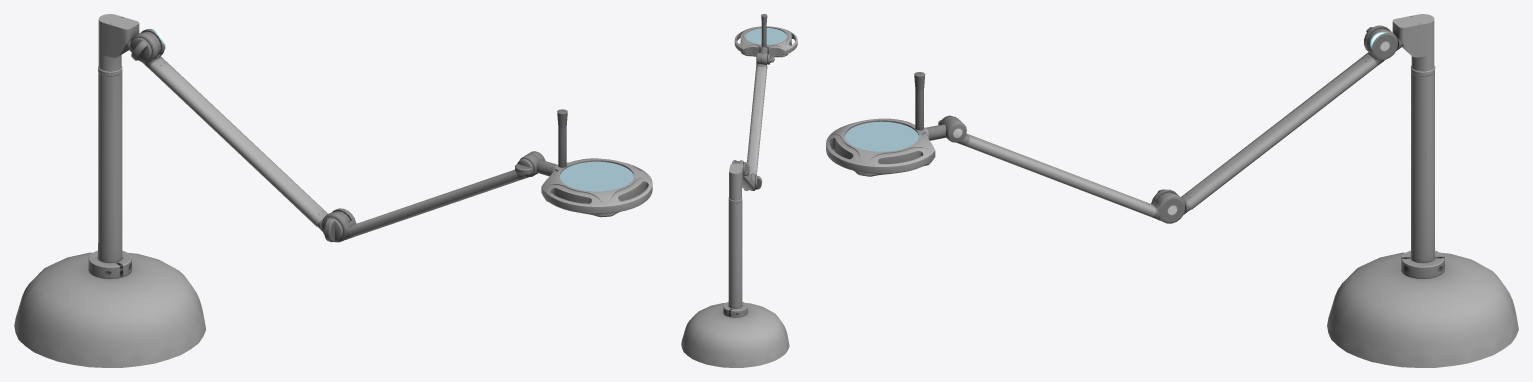
Rendered from lamp1.glb.
3 views of the same model, side by side, from view 1: azimuth 30°, elevation 25°; view 2: azimuth 150°, elevation 25°; view 3: azimuth 270°, elevation 25° (orthographic). The views are drawn at different scales.
Visible parts, largest first — view 1: lamp_LP; view 2: lamp_LP; view 3: lamp_LP.
Part boxes in pixels (x1,y1,x2,y2): lamp_LP: (14,14,652,367); lamp_LP: (681,14,797,367); lamp_LP: (826,14,1518,367).
Size of the model in its own units: 0.7287 by 0.7061 by 1.26.
1 material, 1 textured.
